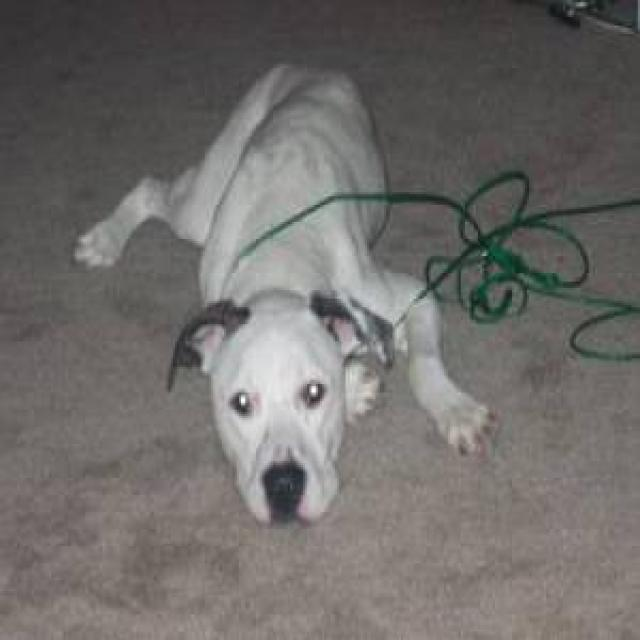dog: (168, 219, 493, 524)
